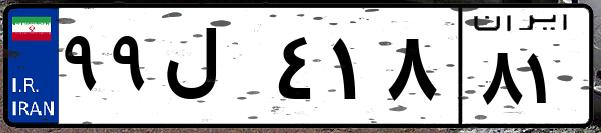1: (330, 28, 385, 110), (525, 38, 570, 115)
4: (270, 28, 330, 110)
8: (385, 28, 445, 110), (475, 38, 525, 113)
9: (57, 26, 110, 100), (110, 28, 158, 98)
ل: (158, 20, 270, 120)
